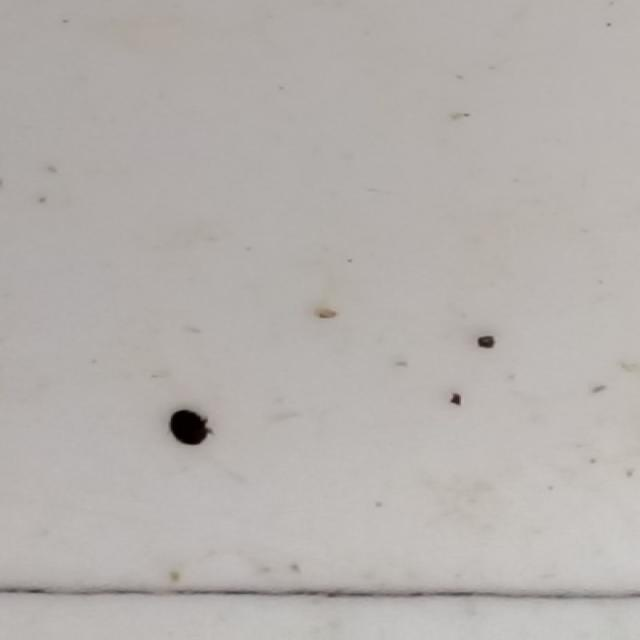varroa: (170, 410, 213, 450)
